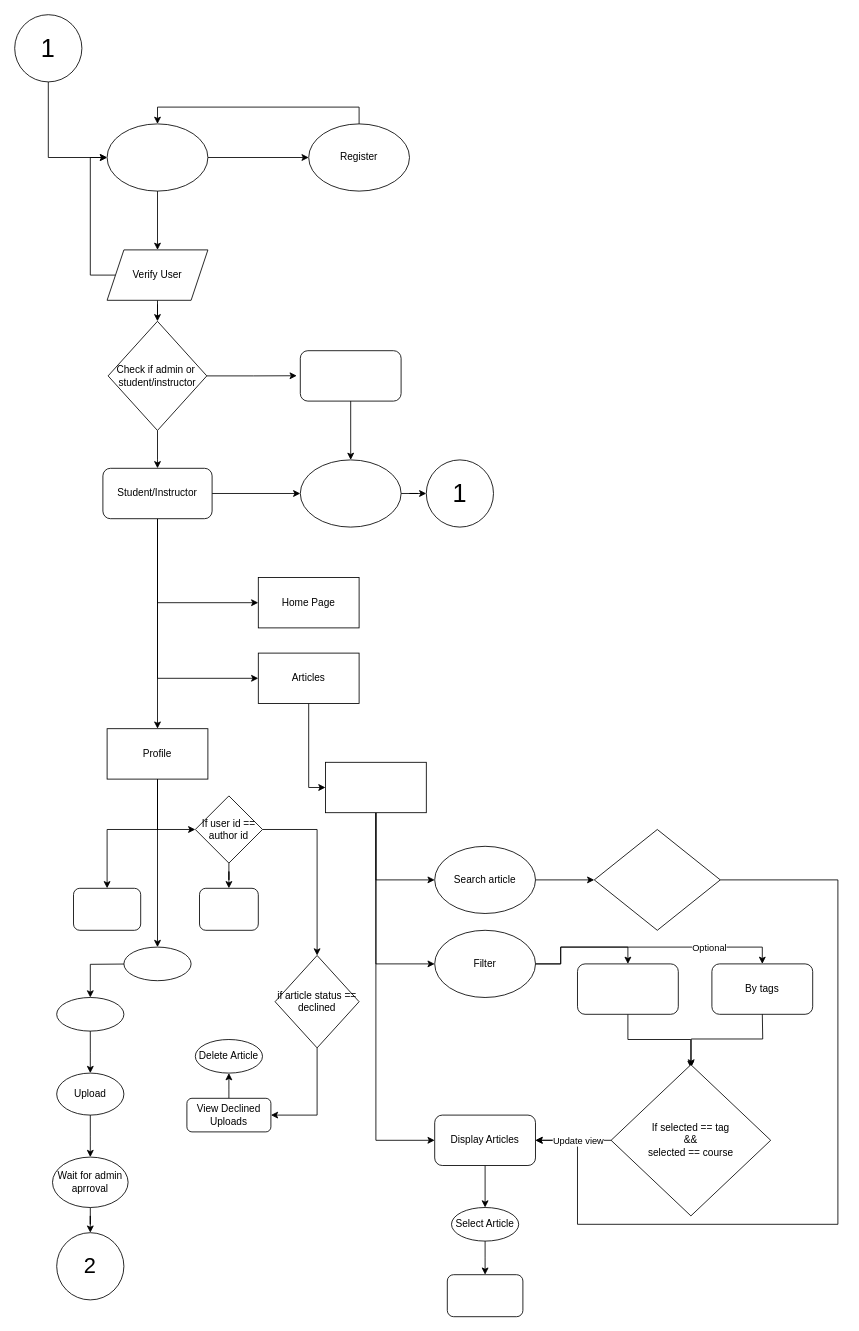
The diagram is 859 pixels wide and 1331 high, and some of its shapes have lost their labels. The box of each missing label's shape, as (x1, y1, x2, y2) in pixels:
Add Article: (123, 946, 191, 981)
Add article information: (56, 997, 124, 1031)
ADMIN: (299, 350, 401, 401)
Article Table: (325, 761, 426, 813)
If keyword == part of title || article Id: (593, 829, 720, 930)
Log out: (299, 459, 401, 527)
Login: (106, 123, 208, 191)
Select course: (577, 963, 678, 1014)
View Profile: (73, 887, 141, 930)
View Selected Article: (446, 1274, 523, 1317)
View uploaded articles: (199, 887, 258, 930)
